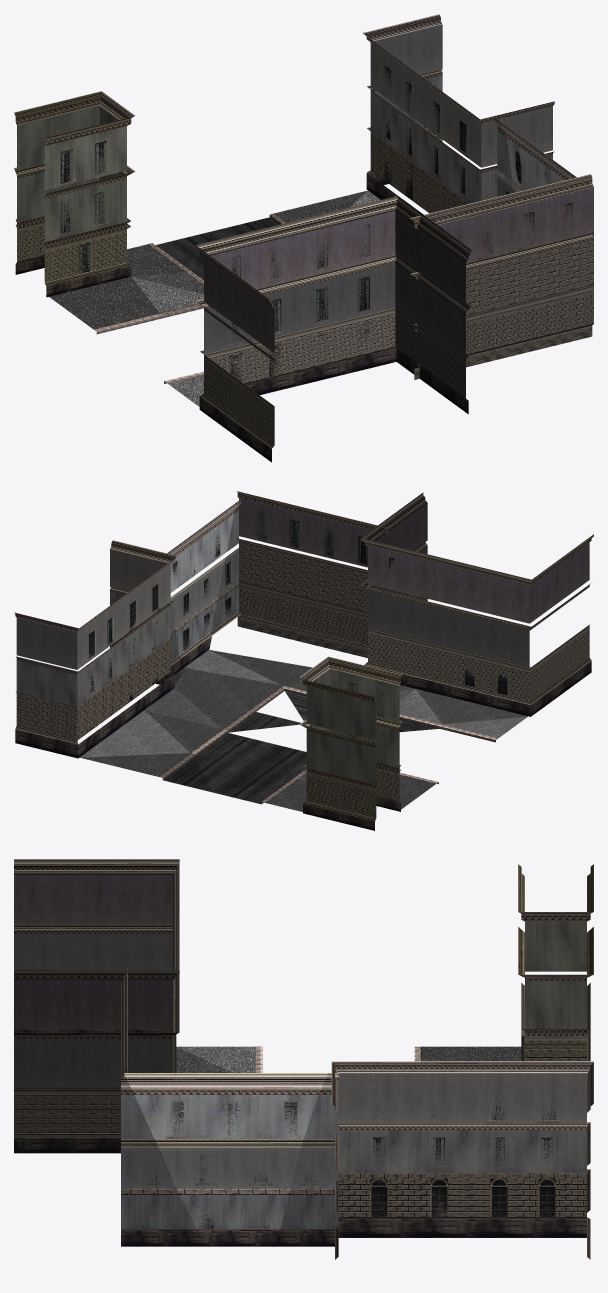
The model's file is primary_156.glb.
3 renders of one model, top to bottom at view 1: azimuth 30°, elevation 25°; view 2: azimuth 150°, elevation 25°; view 3: azimuth 270°, elevation 25°, orthographic. The views are drawn at different scales.
Parts seen in each view (by area): view 1: Object; view 2: Object; view 3: Object.
Boxes of the visible parts, x1,y1,x2,y2 form: Object: (14,14,593,462); Object: (14,491,593,830); Object: (14,859,593,1259).
Size of the model in its own units: 33.38 by 12.44 by 34.84.
258 materials, 258 textured.
